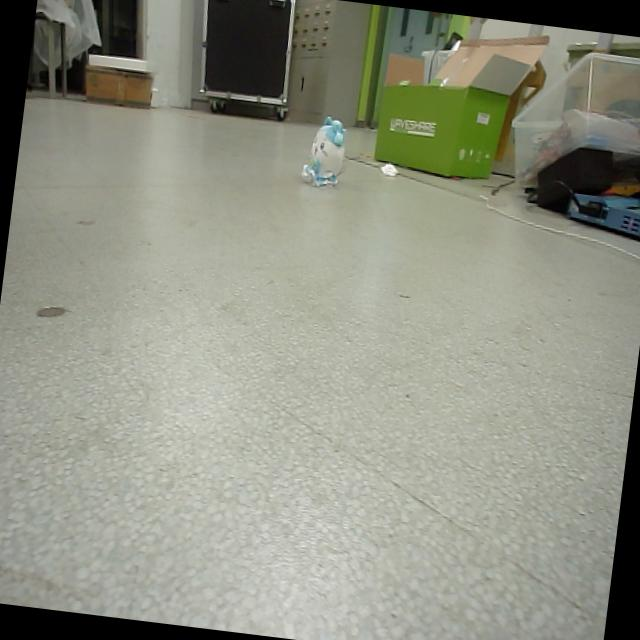xiaoba: (297, 113, 348, 189)
